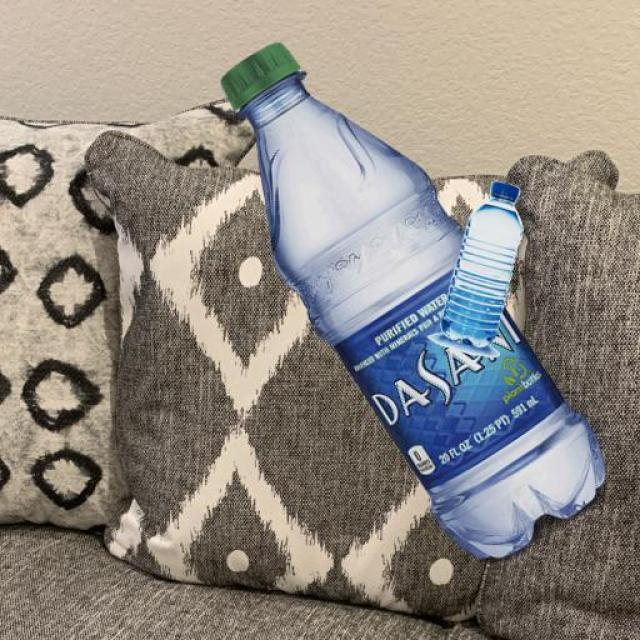plastic: (222, 44, 604, 558)
